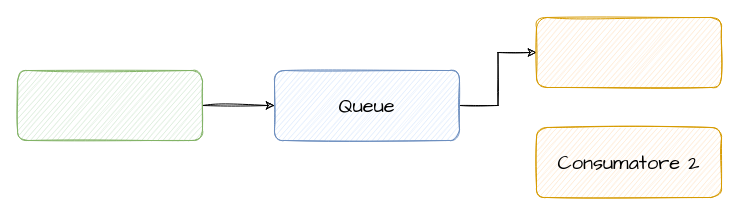
Some shapes in this 739 by 215 pixel diagram are drawn without their labels. Each missing label, with the centre of its shape:
"Consumatore 1" belongs at [629,52].
"Produttore" belongs at [109,105].
